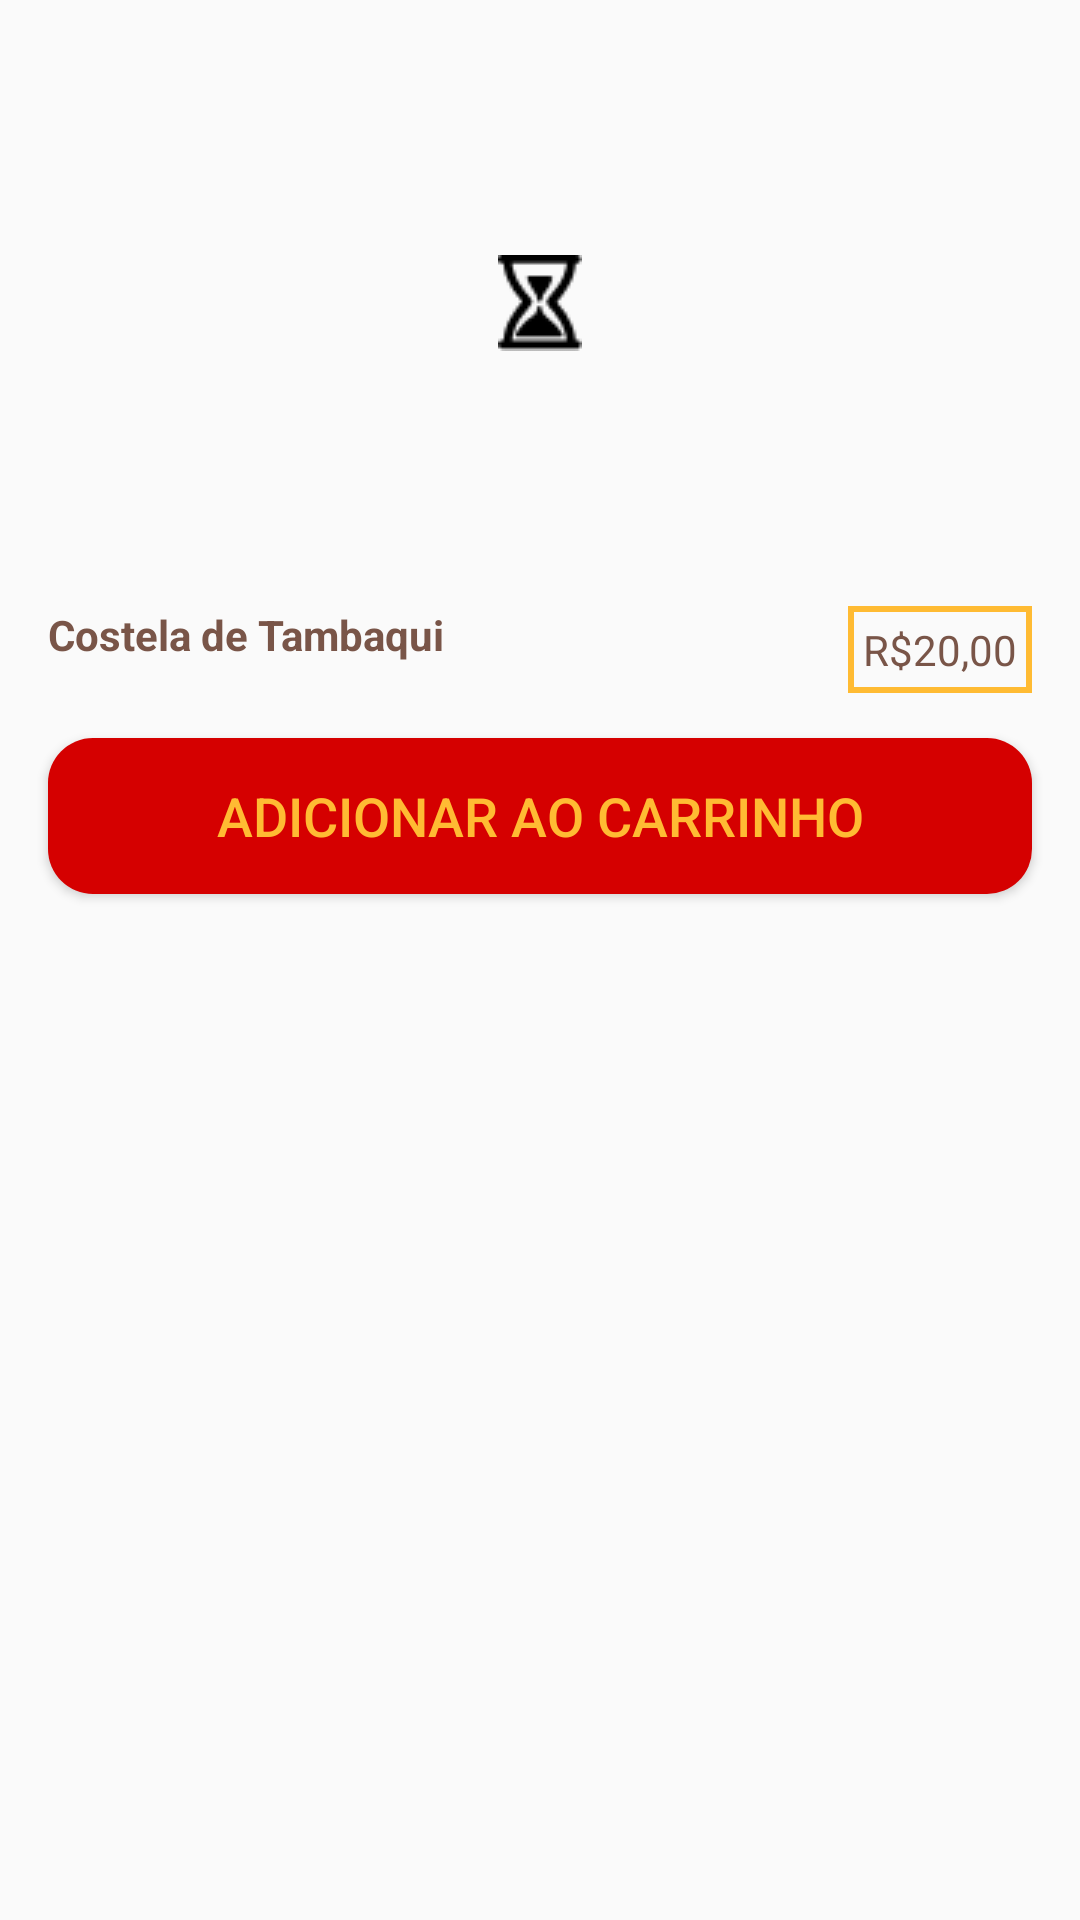

Screen size 1080x1920. Icon name, then its center in pixels as [x,y]:
ampulheta: [540,303]
